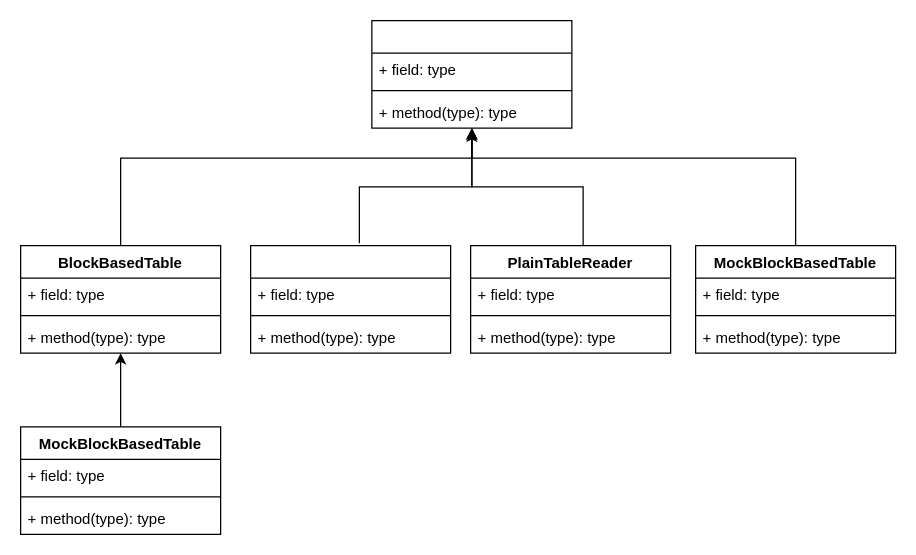
Image size: 916x555. Some labels were removed from this diagram. Each missing label, with the box of its shape:
CuckooTableReader: (249, 244, 451, 353)
TableReader: (371, 19, 572, 128)
